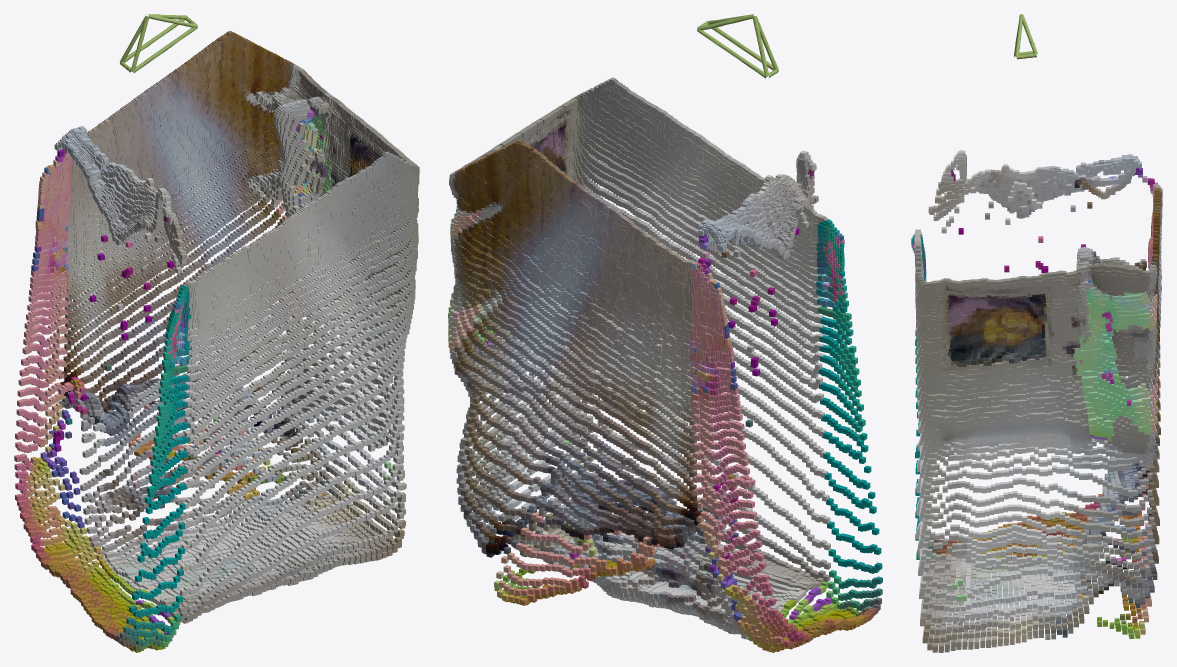
The model's file is pred_4-compressed.glb.
3 renders of one model, left to right at view 1: azimuth 30°, elevation 25°; view 2: azimuth 150°, elevation 25°; view 3: azimuth 270°, elevation 25°, orthographic. The views are drawn at different scales.
Size of the model in its own units: 3.46 by 6.43 by 2.52.
